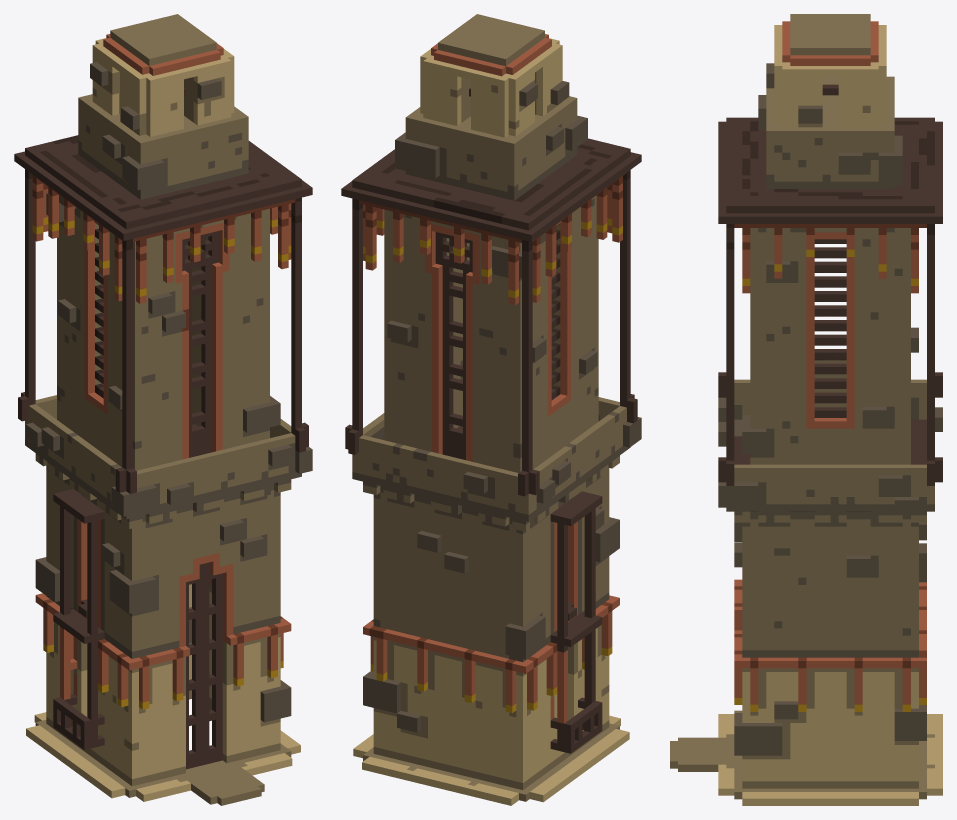
Rendered from adobe_tallbuilding02.obj.
The picture shows the model from 3 angles, left to right: view 1: azimuth 30°, elevation 25°; view 2: azimuth 150°, elevation 25°; view 3: azimuth 270°, elevation 25°; orthographic projection. The views are drawn at different scales.
Bounding box in the file's own units: 2.8 × 10 × 3.4.
1 material, 1 textured.
